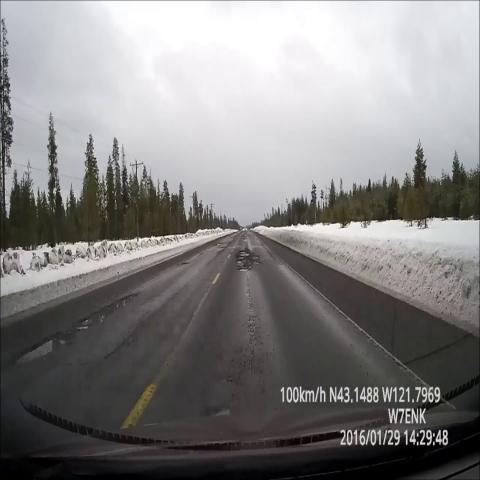pothole: (68, 274, 138, 338), (5, 320, 76, 376), (230, 239, 262, 277), (173, 252, 196, 275)
